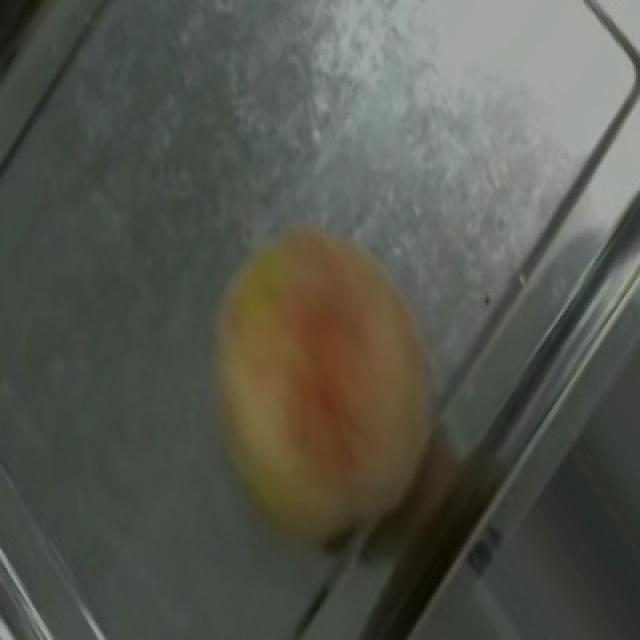Fruit: (158, 184, 490, 576)
